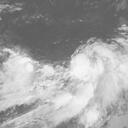cyclone: (56, 38, 109, 96)
